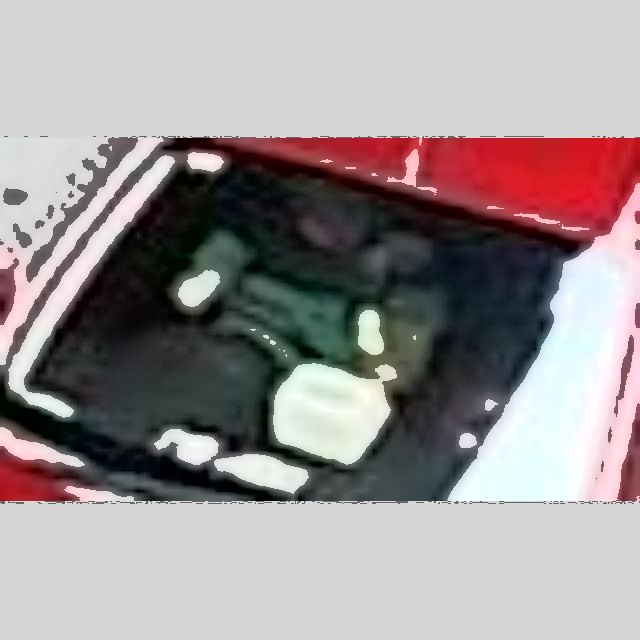tidak-pakai: (148, 219, 418, 414)
